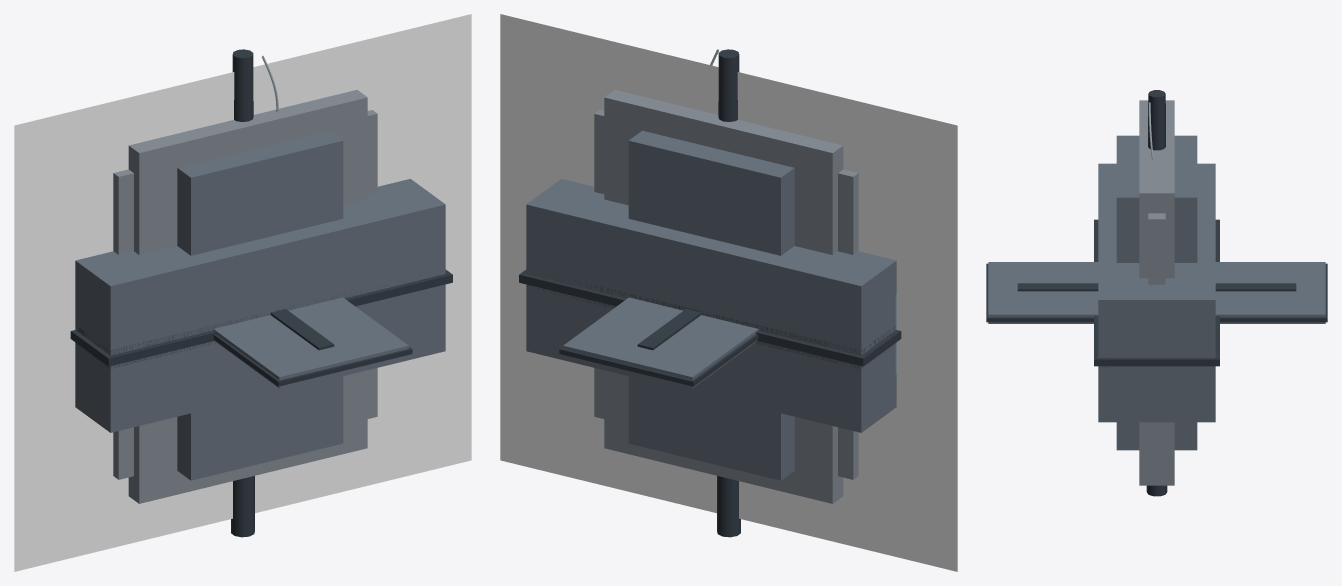
File: prison-rooms.obj
3 renders of one model, left to right at view 1: azimuth 30°, elevation 25°; view 2: azimuth 150°, elevation 25°; view 3: azimuth 270°, elevation 25°, orthographic. The views are drawn at different scales.
Visible parts, largest first — view 1: razor_fence__chainlink_panel, serving_line__serving_body, jumpsuit_cabinet__cabinet_shell, small_window__window_wall, canteen_table_1__table_top, wall_graffiti__graffiti_wall, serving_line__serving_top, razor_fence__fence_post, canteen_table_1__table_edge, canteen_table_1__table_spine, serving_line__serving_kickplate; view 2: razor_fence__chainlink_panel, serving_line__serving_body, jumpsuit_cabinet__cabinet_shell, small_window__window_wall, canteen_table_1__table_top, wall_graffiti__graffiti_wall, serving_line__serving_top, razor_fence__fence_post, canteen_table_1__table_edge, serving_line__serving_kickplate, canteen_table_1__table_spine; view 3: serving_line__serving_body, canteen_table_1__table_top, jumpsuit_cabinet__cabinet_shell, small_window__window_wall, wall_graffiti__graffiti_wall, serving_line__serving_top, canteen_table_1__table_edge, canteen_table_1__table_spine, razor_fence__fence_post.
Boxes of the visible parts, box(x1,y1,x2,y2) form: razor_fence__chainlink_panel: box(14, 14, 471, 571); serving_line__serving_body: box(75, 179, 445, 432); jumpsuit_cabinet__cabinet_shell: box(177, 130, 343, 480); small_window__window_wall: box(128, 90, 367, 503); canteen_table_1__table_top: box(213, 297, 408, 388); wall_graffiti__graffiti_wall: box(113, 110, 377, 479); serving_line__serving_top: box(70, 269, 452, 366); razor_fence__fence_post: box(231, 49, 254, 537); canteen_table_1__table_edge: box(213, 334, 412, 386); canteen_table_1__table_spine: box(270, 309, 334, 350); serving_line__serving_kickplate: box(76, 285, 432, 368); razor_fence__chainlink_panel: box(500, 14, 957, 571); serving_line__serving_body: box(526, 179, 896, 432); jumpsuit_cabinet__cabinet_shell: box(628, 130, 794, 480); small_window__window_wall: box(604, 90, 843, 503); canteen_table_1__table_top: box(563, 297, 758, 388); wall_graffiti__graffiti_wall: box(594, 110, 858, 479); serving_line__serving_top: box(519, 269, 901, 366); razor_fence__fence_post: box(717, 49, 740, 537); canteen_table_1__table_edge: box(559, 334, 758, 386); serving_line__serving_kickplate: box(534, 275, 895, 368); canteen_table_1__table_spine: box(637, 309, 701, 350); serving_line__serving_body: box(1098, 163, 1215, 422); canteen_table_1__table_top: box(988, 262, 1325, 323); jumpsuit_cabinet__cabinet_shell: box(1116, 135, 1197, 450); small_window__window_wall: box(1139, 100, 1174, 485); wall_graffiti__graffiti_wall: box(1148, 213, 1165, 471); serving_line__serving_top: box(1094, 219, 1219, 366); canteen_table_1__table_edge: box(986, 263, 1327, 322); canteen_table_1__table_spine: box(1017, 283, 1296, 291); razor_fence__fence_post: box(1146, 90, 1167, 496).
Bounding box in the file's own units: 3 × 3 × 2.33.
